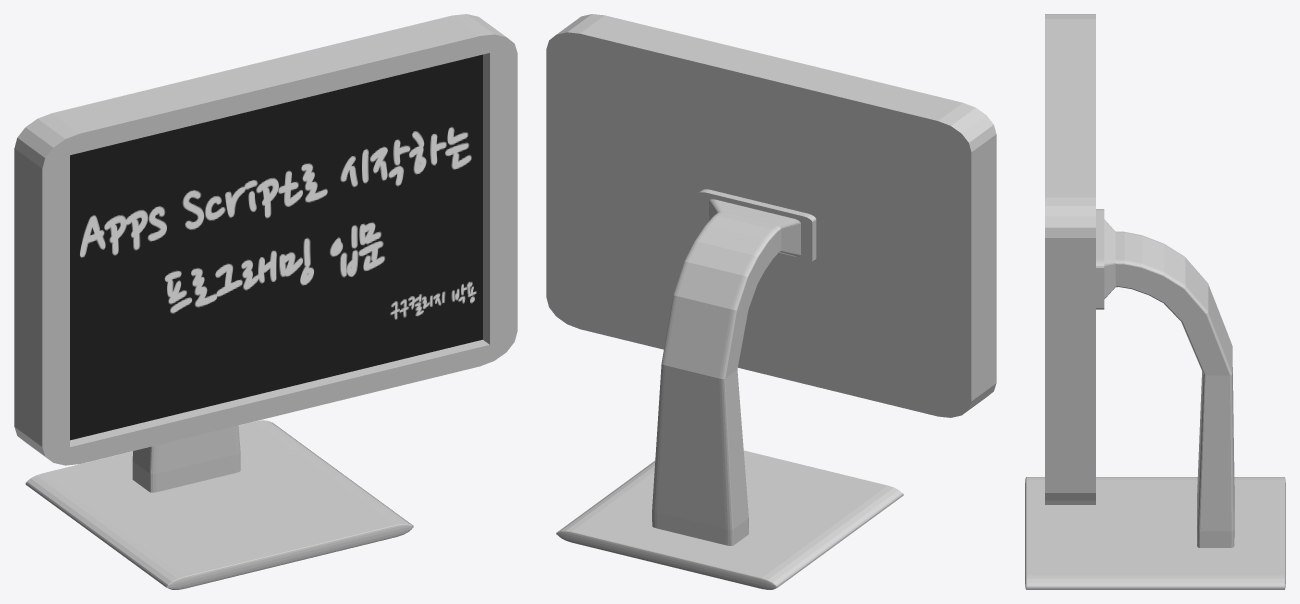
File: com_t.glb
3 views of the same model, side by side, from view 1: azimuth 30°, elevation 25°; view 2: azimuth 150°, elevation 25°; view 3: azimuth 270°, elevation 25° (orthographic). The views are drawn at different scales.
Visible parts, largest first — view 1: screen, monitor; view 2: monitor; view 3: monitor.
Part boxes in pixels (x1=…): screen: x1=70, y1=54, x2=482, y2=440; monitor: x1=14, y1=14, x2=517, y2=589; monitor: x1=546, y1=14, x2=996, y2=589; monitor: x1=1025, y1=14, x2=1285, y2=589.
Size of the model in its own units: 0.2847 by 0.2695 by 0.1479.
2 materials, 1 textured.
